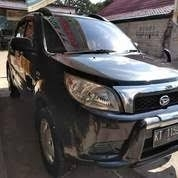plate: (154, 124, 178, 147)
